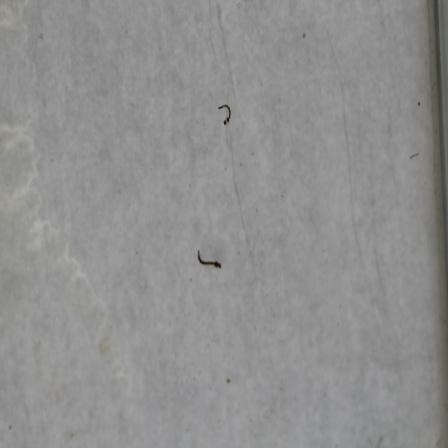Jentik-Nyamuk: (194, 248, 225, 271), (214, 99, 234, 128)
